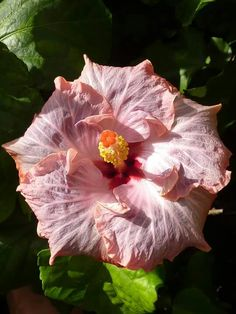Hibiscus: (6, 51, 228, 268)
